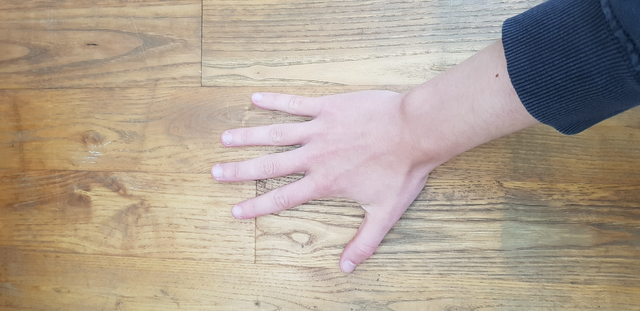Paper: (184, 61, 449, 287)
